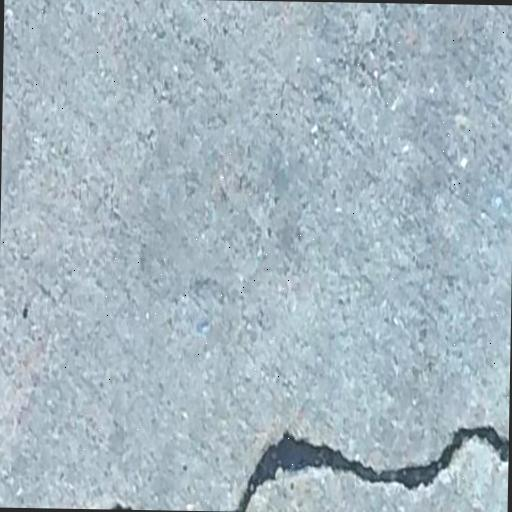spalling: (210, 407, 503, 509)
